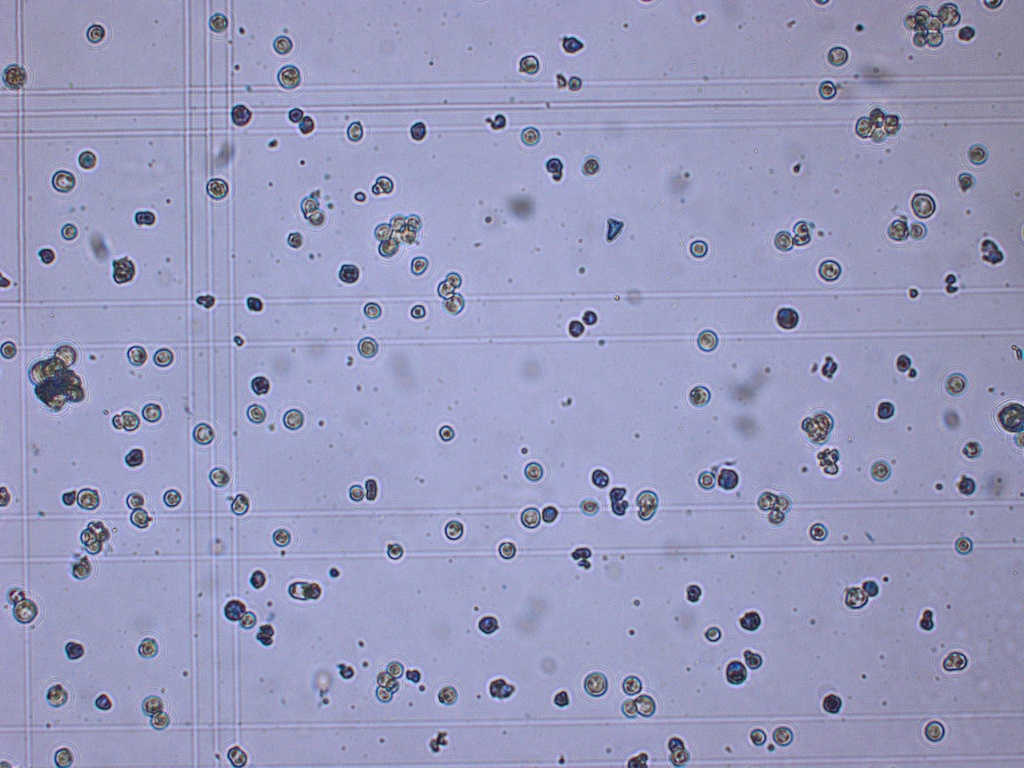Aggregate: (28, 357, 86, 414), (901, 3, 962, 49), (78, 519, 112, 555), (387, 214, 422, 248), (867, 107, 899, 143)
dead: (999, 402, 1024, 431), (608, 486, 629, 514), (981, 240, 1004, 264), (605, 215, 624, 242), (490, 677, 514, 698), (776, 309, 799, 329), (727, 661, 747, 684), (230, 104, 251, 125), (718, 468, 738, 490), (740, 610, 760, 631), (743, 650, 763, 671), (225, 598, 243, 620), (64, 641, 84, 660), (339, 264, 359, 282), (133, 210, 155, 225), (78, 150, 96, 168), (564, 36, 582, 54), (479, 617, 498, 634), (125, 448, 144, 465), (824, 693, 840, 713), (628, 752, 648, 768), (822, 355, 836, 377), (251, 375, 268, 393), (591, 469, 608, 487), (861, 579, 879, 595), (546, 157, 563, 173), (410, 122, 425, 140), (246, 296, 264, 311), (250, 570, 265, 588), (896, 353, 910, 372), (921, 609, 933, 631), (877, 403, 893, 419), (959, 478, 975, 494), (553, 690, 568, 707), (543, 505, 557, 523), (300, 115, 313, 134), (570, 549, 592, 560), (687, 584, 700, 602), (197, 294, 215, 307), (39, 249, 54, 264), (569, 319, 582, 336), (96, 694, 110, 709), (959, 26, 973, 40), (492, 113, 505, 128), (583, 310, 596, 324), (288, 108, 300, 123), (340, 665, 353, 677), (62, 492, 74, 504)
live: (638, 489, 657, 520), (583, 672, 607, 696), (912, 193, 935, 217), (52, 169, 75, 193), (15, 598, 37, 622), (46, 683, 67, 707), (282, 408, 304, 430), (279, 66, 300, 89), (79, 487, 100, 510), (819, 259, 840, 281), (127, 344, 147, 367), (943, 652, 967, 671), (887, 219, 907, 241), (845, 588, 867, 608), (444, 295, 466, 315), (697, 329, 717, 350), (438, 684, 458, 705), (228, 747, 248, 768), (138, 637, 159, 657), (142, 696, 163, 716), (519, 54, 539, 75), (207, 178, 227, 199), (246, 404, 266, 424), (272, 35, 292, 55), (56, 344, 76, 364), (690, 385, 709, 406), (828, 46, 847, 67), (773, 231, 793, 250), (773, 726, 793, 745), (55, 748, 74, 768), (193, 423, 212, 443), (926, 720, 944, 741), (231, 494, 250, 513), (522, 507, 540, 527), (359, 338, 377, 358), (144, 402, 162, 422), (130, 509, 150, 527), (208, 469, 229, 486), (871, 461, 889, 480), (749, 727, 767, 746), (623, 675, 641, 694), (155, 347, 173, 366), (207, 14, 226, 32), (522, 127, 539, 147), (163, 488, 181, 506), (689, 241, 708, 258), (970, 144, 987, 163), (809, 524, 828, 541), (638, 695, 655, 714), (273, 528, 290, 547), (948, 375, 964, 395), (124, 409, 139, 430), (525, 462, 542, 480), (446, 521, 463, 539), (437, 280, 454, 298), (61, 222, 78, 240), (819, 80, 835, 99), (347, 122, 363, 141), (757, 493, 774, 510), (964, 442, 981, 459), (910, 222, 927, 239), (671, 749, 689, 765), (365, 300, 381, 318), (87, 25, 103, 43), (856, 115, 869, 136), (299, 196, 315, 213), (699, 470, 714, 488), (379, 241, 397, 256), (1, 339, 15, 358), (499, 542, 515, 558), (387, 543, 403, 559), (240, 612, 256, 628), (154, 713, 169, 730), (439, 424, 454, 441), (128, 493, 143, 510), (349, 483, 363, 501), (412, 257, 426, 275), (581, 499, 597, 514), (376, 684, 391, 700), (287, 231, 302, 247), (768, 510, 784, 524), (957, 535, 970, 552), (704, 627, 720, 640), (621, 700, 635, 714), (568, 76, 581, 90), (377, 224, 388, 240), (412, 304, 425, 317), (387, 662, 401, 674)
